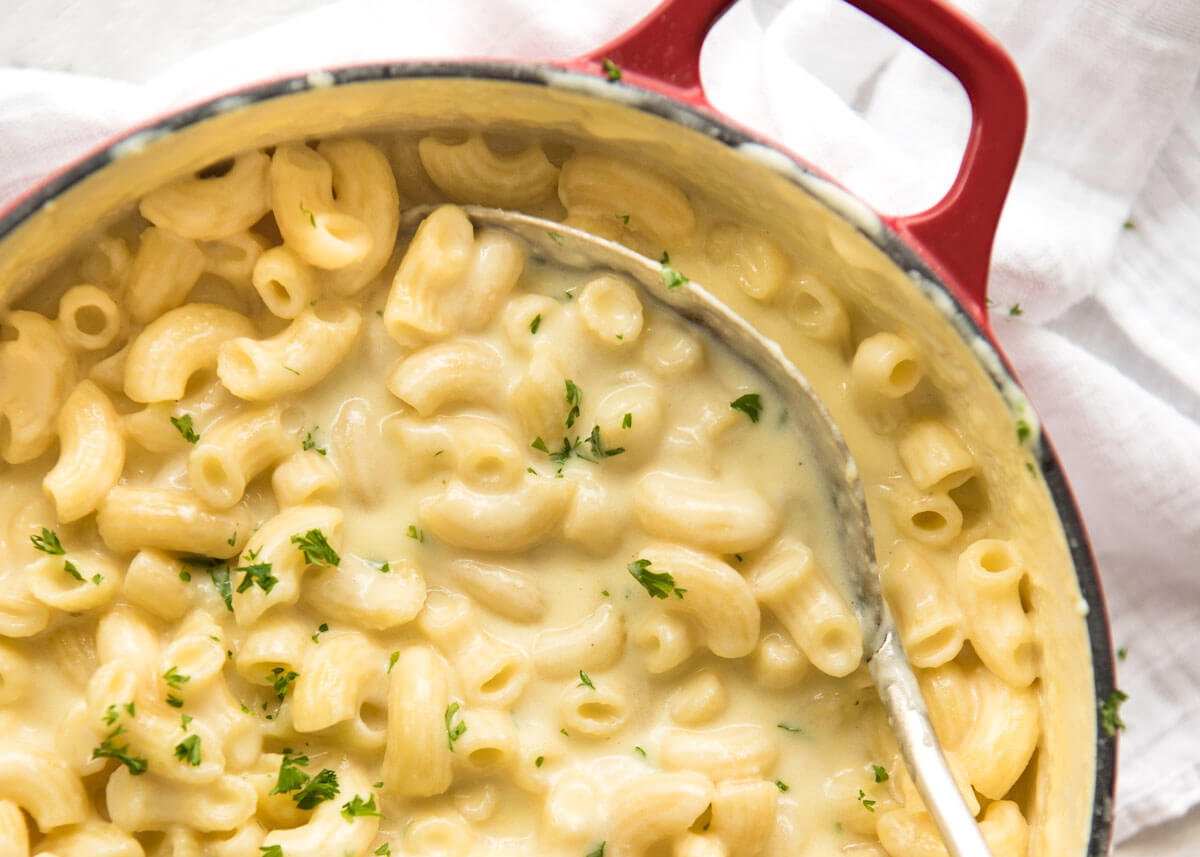macncheese: (39, 84, 1051, 821)
